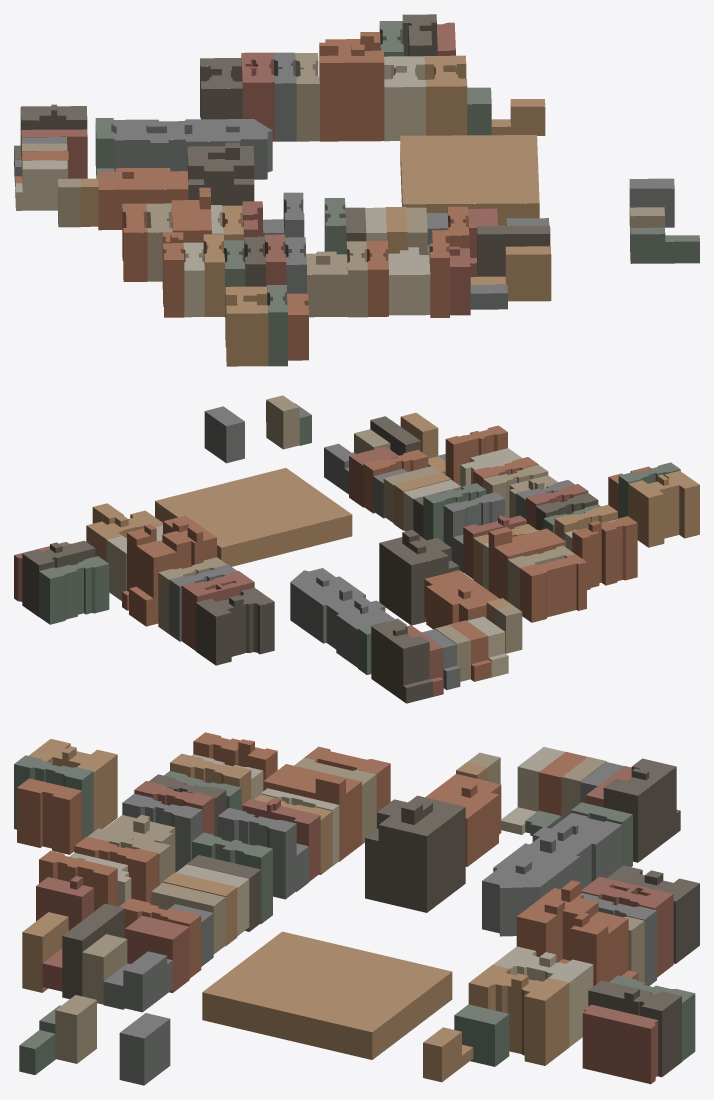
File: tile-5_0.glb
The picture shows the model from 3 angles, top to bottom: view 1: azimuth 30°, elevation 25°; view 2: azimuth 150°, elevation 25°; view 3: azimuth 270°, elevation 25°; orthographic projection. The views are drawn at different scales.
Visible parts, largest first — view 1: wall, roof; view 2: wall, roof; view 3: wall, roof.
Boxes of the visible parts, x1,y1,x2,y2 form: wall: (14, 22, 699, 366); roof: (14, 14, 699, 314); wall: (14, 399, 699, 703); roof: (14, 395, 699, 687); wall: (14, 741, 699, 1085); roof: (14, 732, 699, 1055).
Bounding box in the file's own units: 211 × 36.54 × 213.
